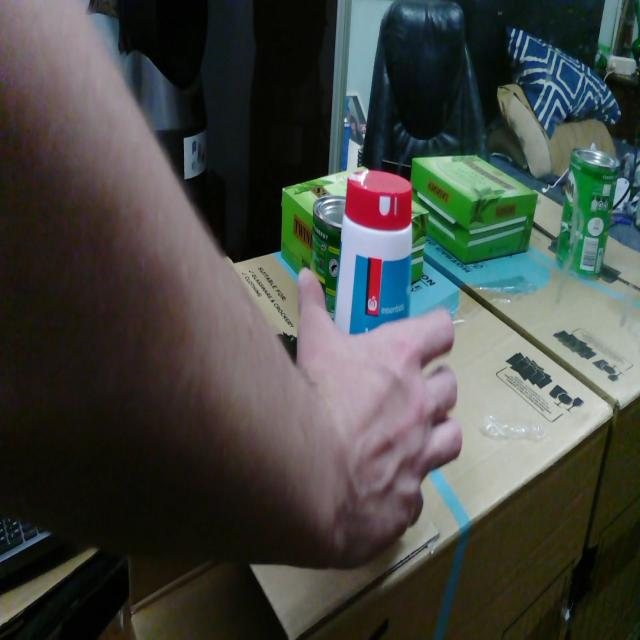nestle_milo_tin: (311, 195, 346, 322)
twinings_greentea_box: (281, 167, 368, 275), (412, 197, 428, 282)
woolworths_salt_bottle: (334, 170, 412, 334)
